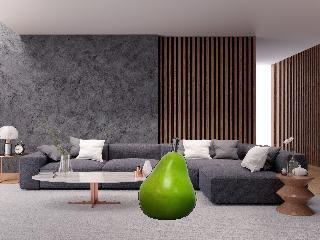pear: (136, 135, 199, 224)
